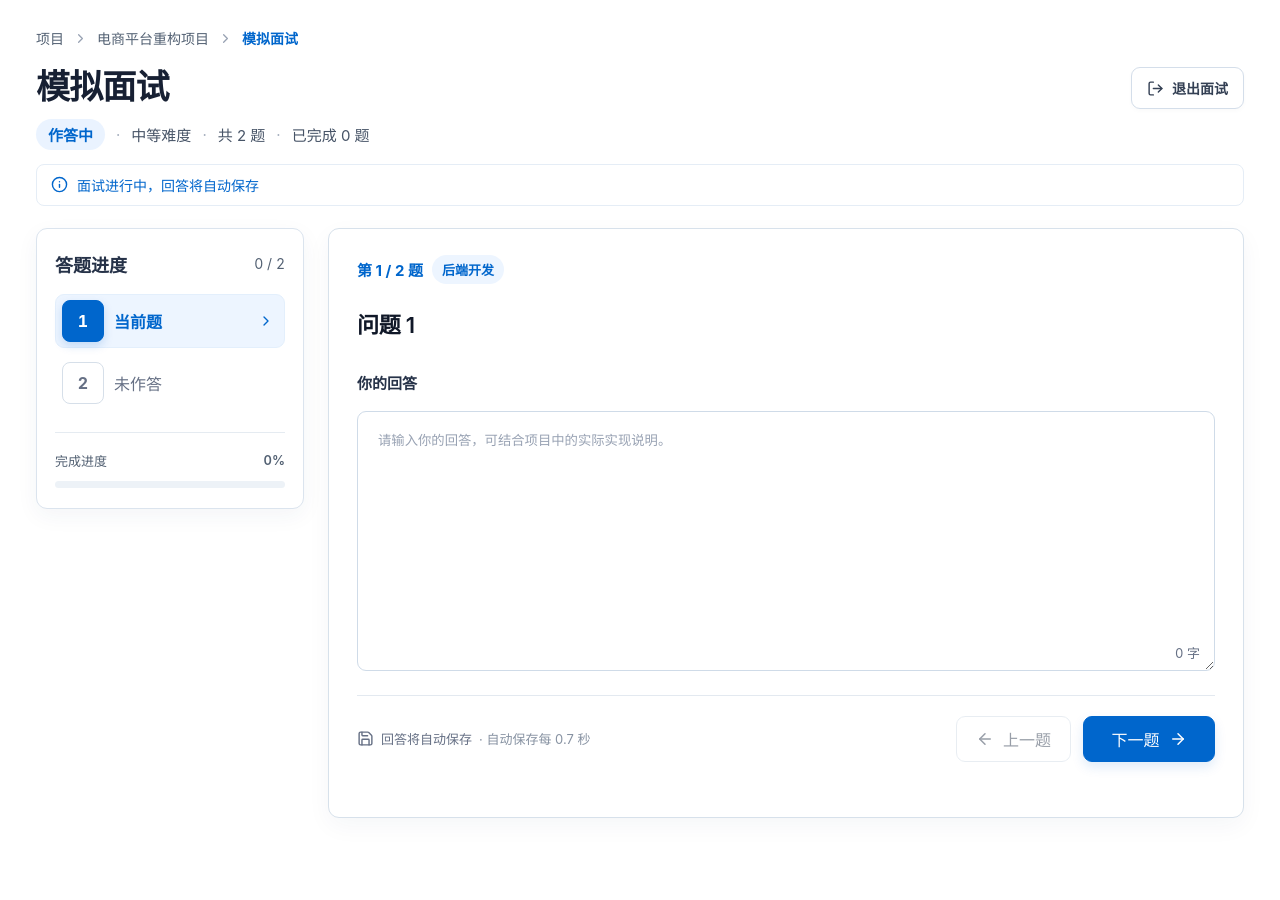
Test case: InterviewSessionClient › renders real project context, localized legacy category and live character count
Expected: the heading "模拟面试" is shown, [36, 66, 169, 107]
Expected: the text "后端开发" is shown, [432, 255, 504, 284]
In the text box labelled "你的回答": (786, 541) [357, 411, 1215, 671], type "中 A😀"
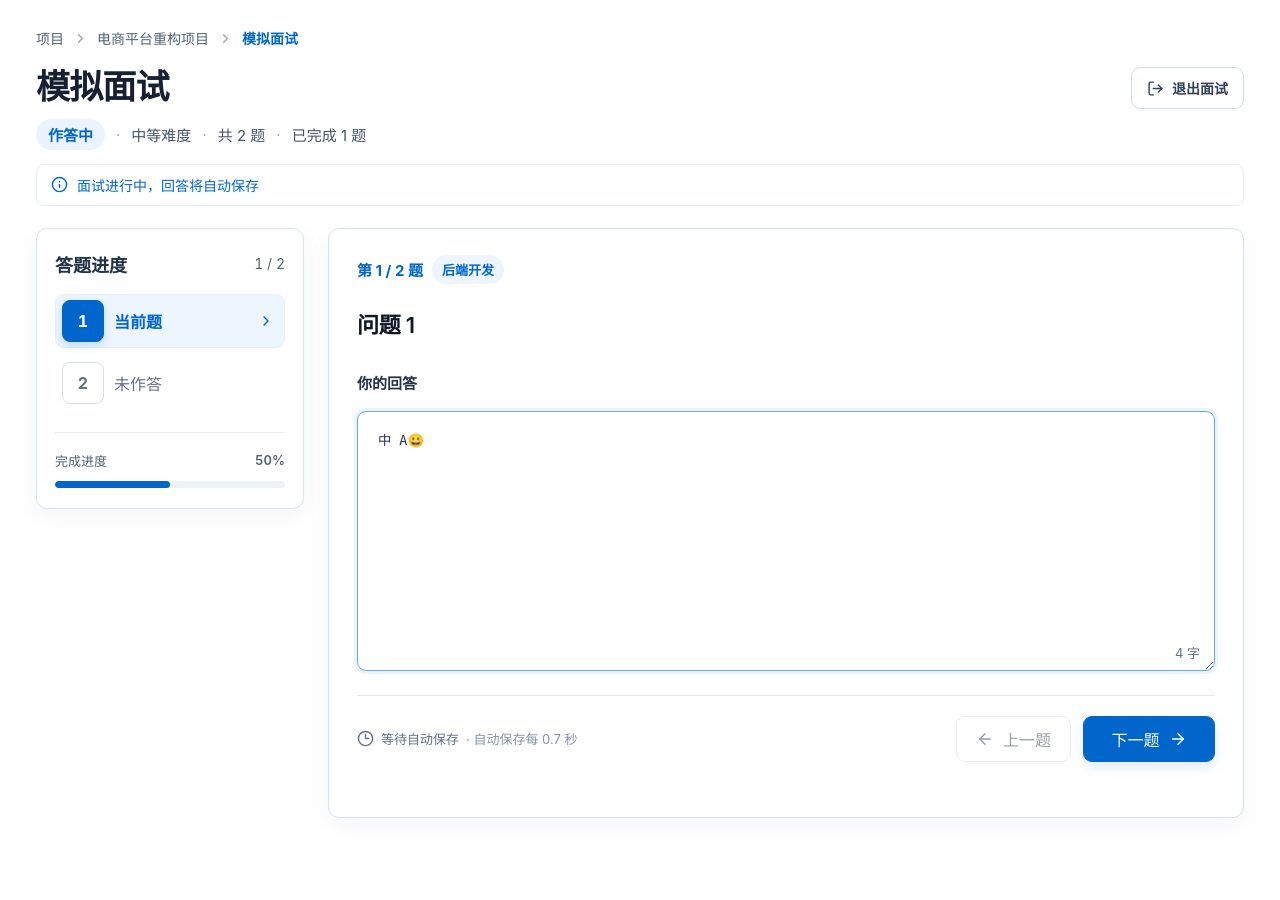
Expected: the text "4 字" is shown, [1175, 643, 1200, 662]
